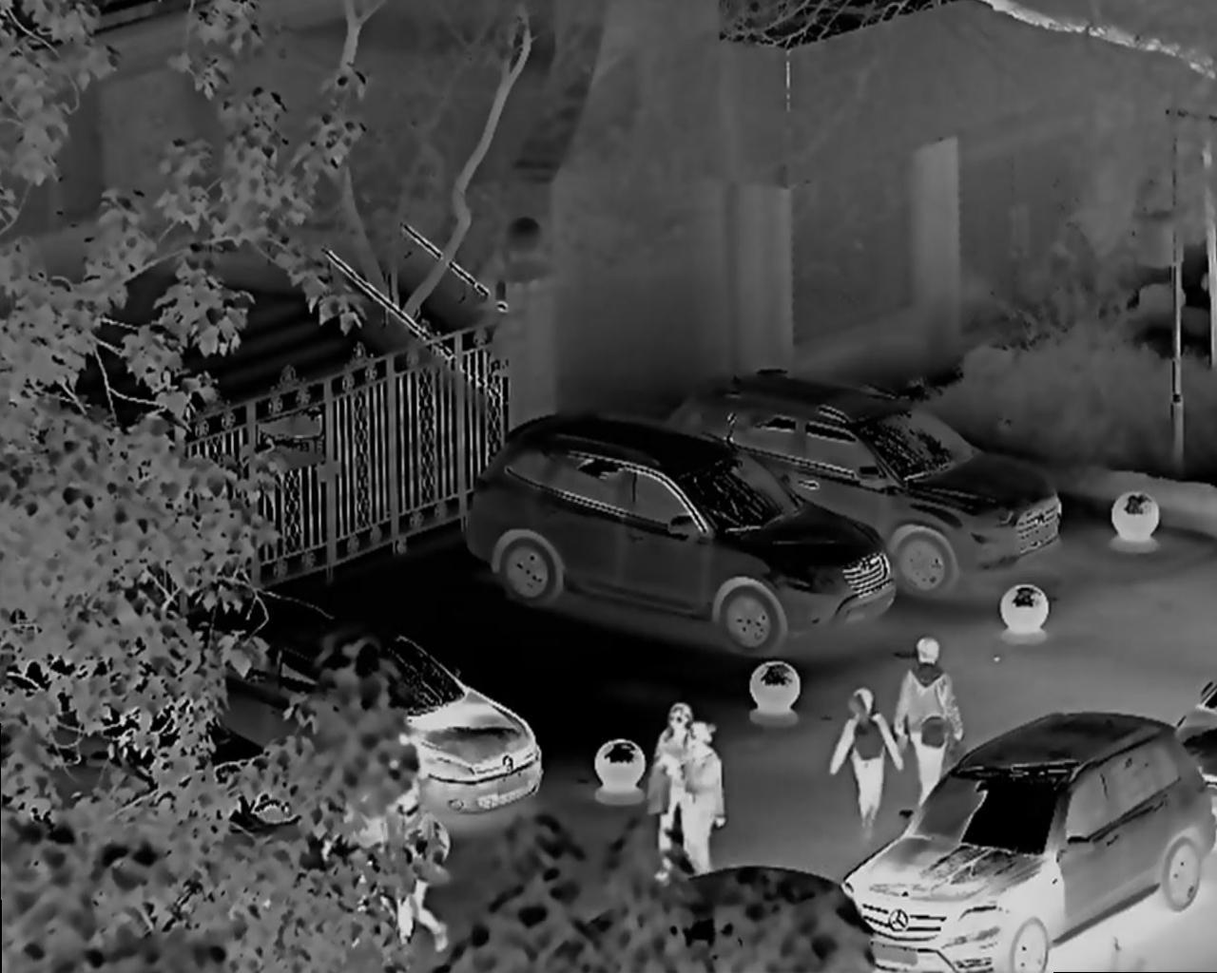person: (374, 787, 461, 960), (894, 638, 976, 806), (671, 722, 743, 868), (825, 686, 902, 819), (635, 707, 689, 845)
